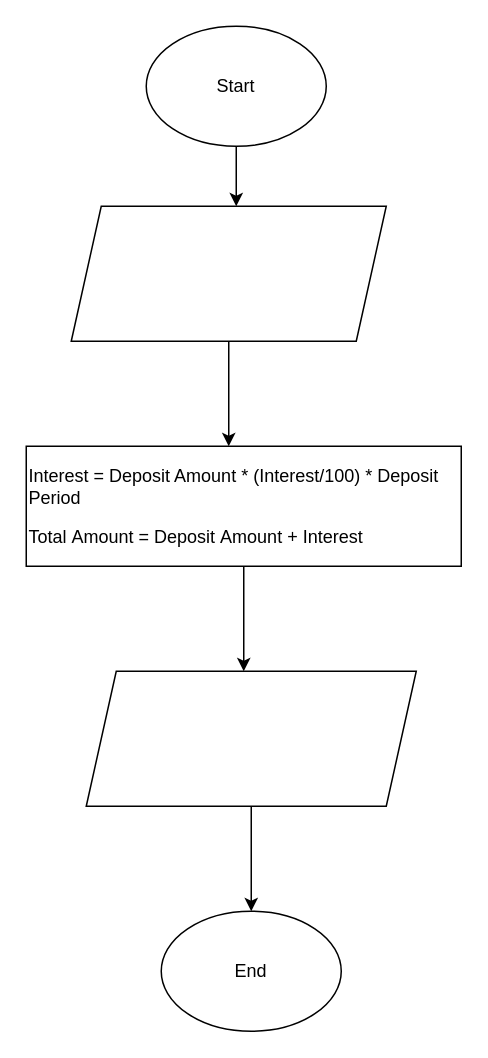
Some shapes in this 488 by 1058 pixel diagram are drawn without their labels. Here are the shapes that lost their labels. From the top down, the centre of each, then its label:
At [228,273]: "Input deposit amount,interest rate, deposit period".
At [250,738]: "Print (Total Amount)".
